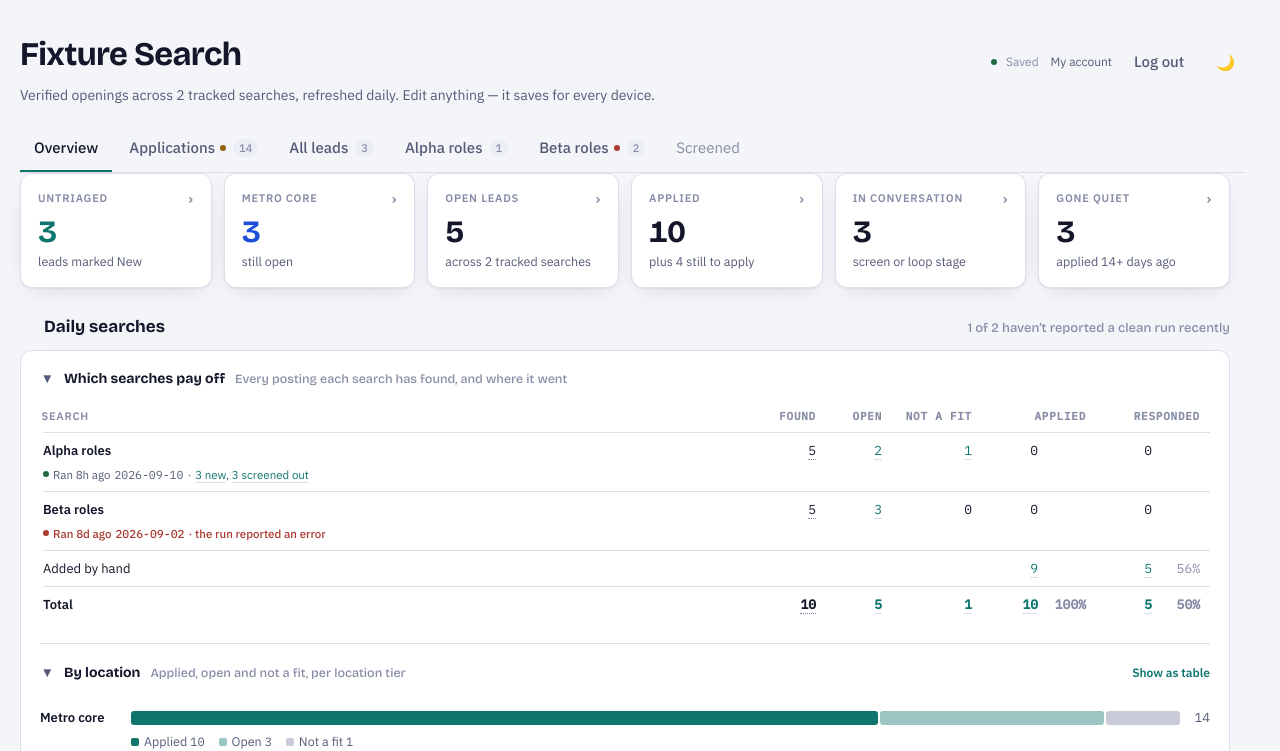
the applications grid › keeps the search's sentence on an application made from a lead
Click the tab "Applications 14" at (194, 147), box 129,138 -> 258,157
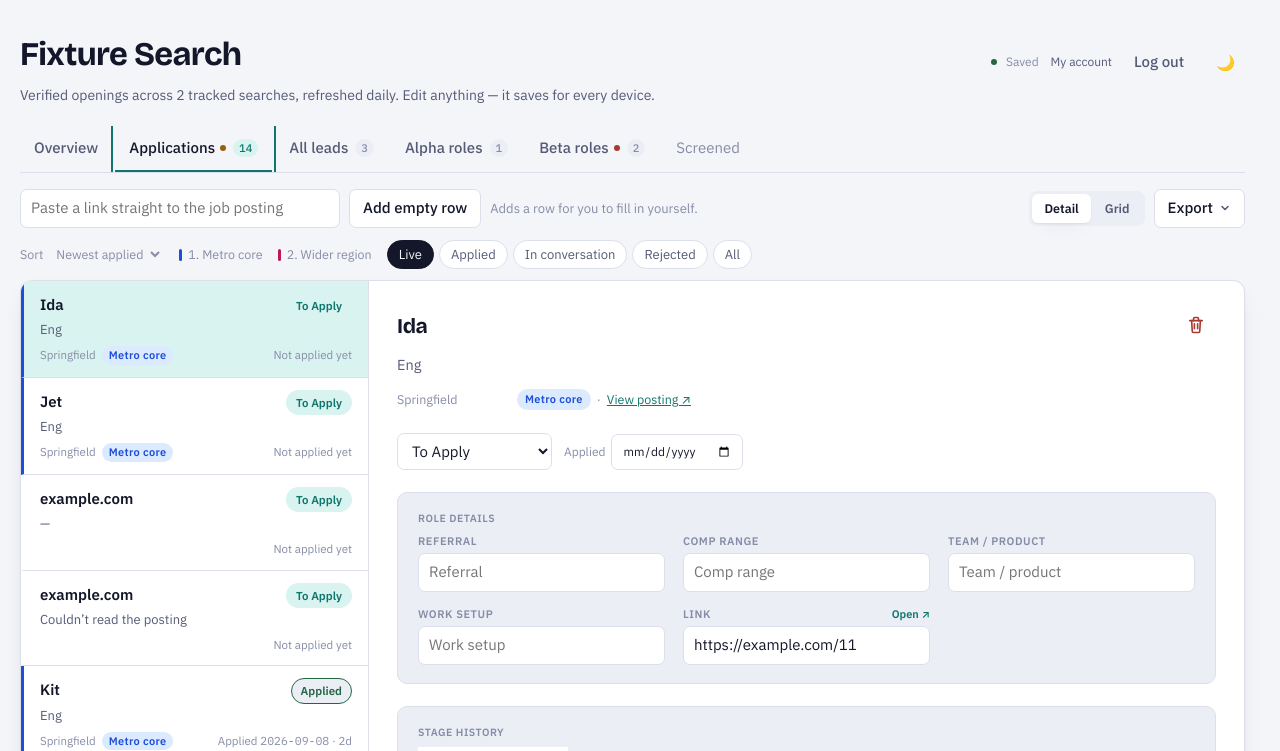
Click the text "Kit" at (50, 690), box 40,680 -> 60,699
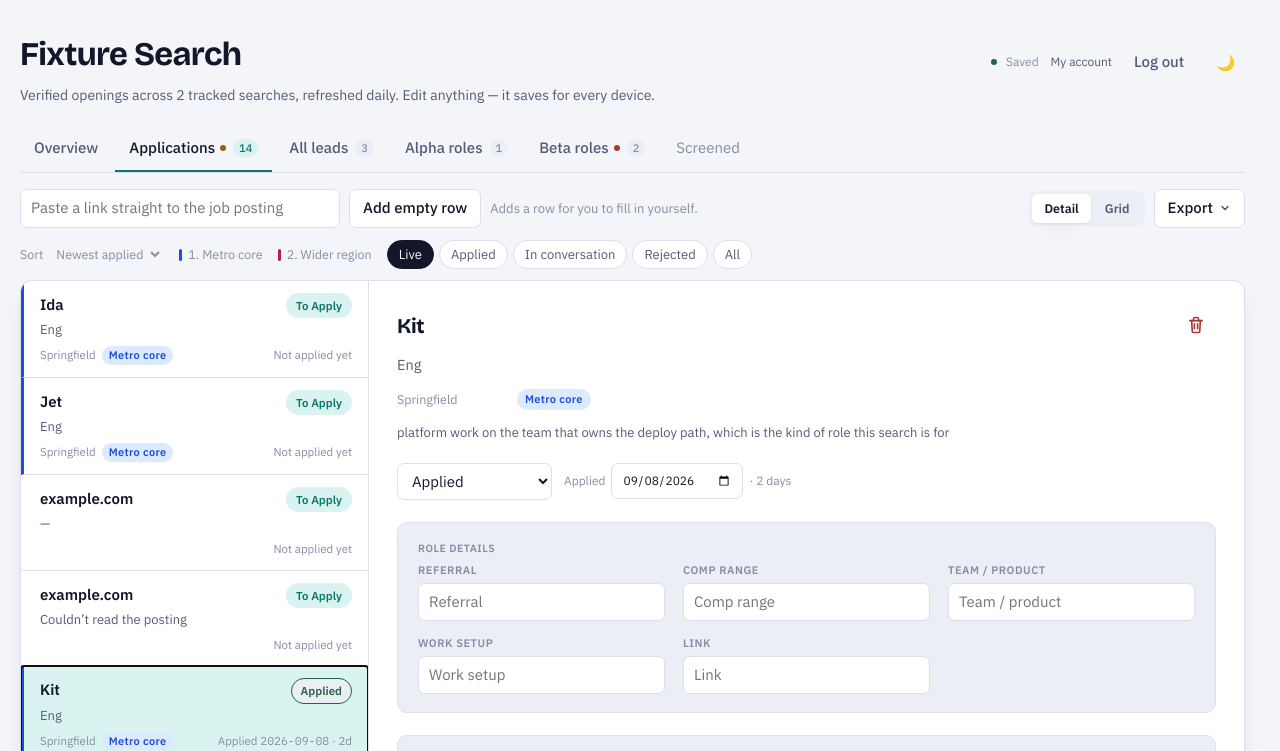
Expected: the text "owns the deploy path" is shown, 397,424 -> 949,441
